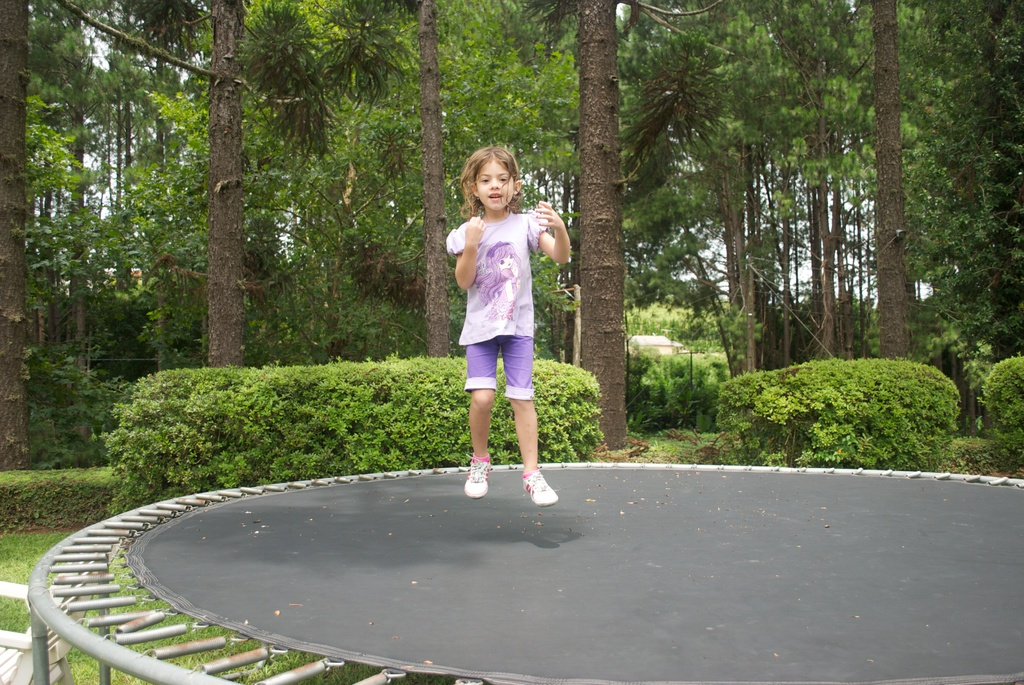Person: (445, 146, 569, 508)
